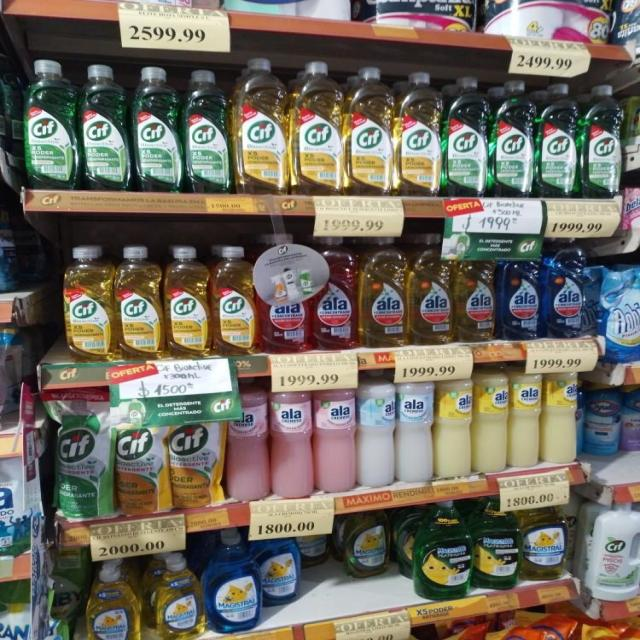ala_conc_amarillo: (359, 233, 407, 348), (408, 233, 453, 346), (455, 236, 496, 342)
ala_conc_azul: (498, 238, 541, 342), (544, 242, 588, 339)
ala_conc_rojo: (259, 239, 310, 354), (312, 234, 357, 350)
ala_crem_amarillo: (435, 372, 471, 478), (542, 367, 580, 465), (473, 370, 508, 474), (509, 367, 541, 469)
ala_crem_blanco: (357, 374, 396, 488), (397, 376, 433, 484)
ala_crem_rosado: (227, 382, 269, 502), (271, 381, 313, 499), (315, 380, 356, 494)
cif_conc_bot_amarilla: (233, 56, 288, 196), (291, 60, 343, 197), (345, 66, 394, 198), (62, 244, 114, 363), (396, 70, 442, 198), (116, 244, 162, 360), (165, 244, 210, 358), (212, 244, 256, 356)
cif_conc_botella_verde: (23, 58, 78, 190), (80, 63, 129, 192), (132, 65, 180, 193), (183, 68, 230, 194), (444, 74, 489, 198), (491, 78, 535, 198), (536, 81, 579, 199), (582, 82, 622, 199), (624, 78, 640, 190), (0, 44, 9, 186)
cif_conc_sachet_amarillo: (115, 384, 167, 515), (170, 388, 223, 509)
cif_conc_sachet_verde: (54, 385, 112, 519)
magistral_con_amarillo: (146, 550, 203, 640), (84, 557, 140, 640), (522, 497, 571, 581), (341, 508, 392, 578)
magistral_con_azul: (205, 528, 259, 633), (598, 262, 639, 362), (260, 525, 301, 607)
